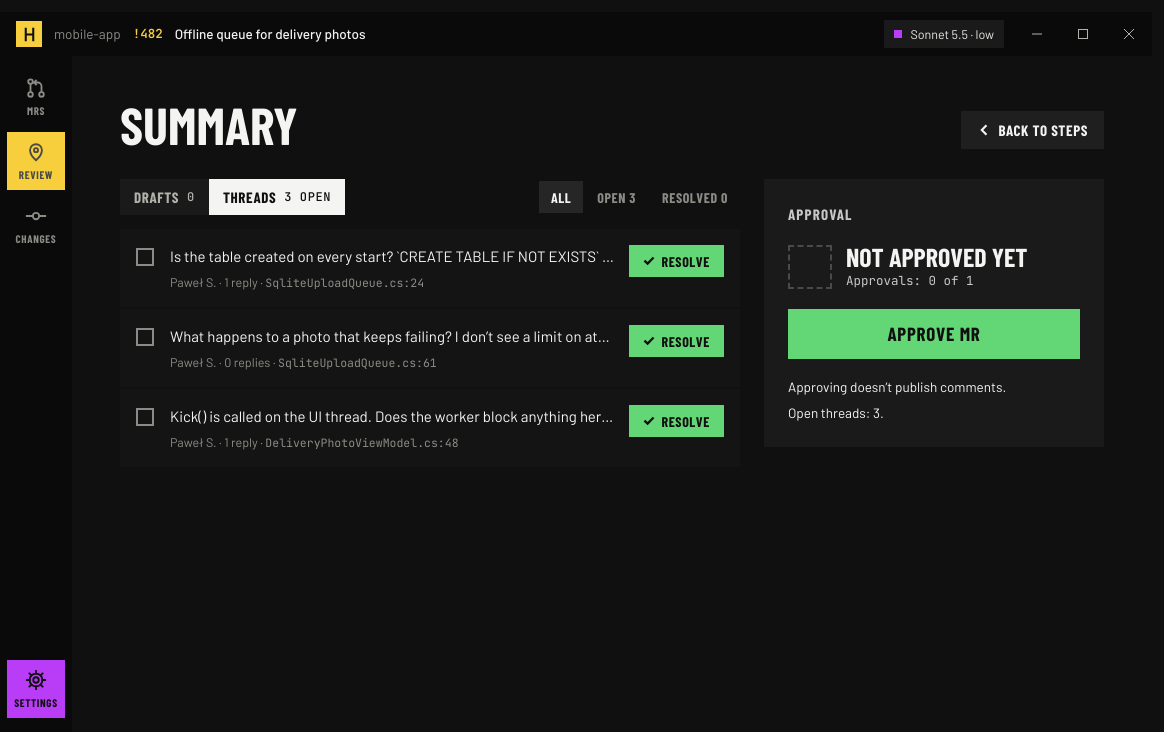
Scenario: S-05 Approve MR and Revoke approval (F-14.2) › F-14.2 GitLab answers the approval with a conflict (the MR changed meanwhile): the banner appears and Approve MR is disabled
Expected: the element named "Comments" is shown, top-left (120, 179), bottom-right (345, 215)
Click the button "Approve MR" at {"x": 934, "y": 334}, box top-left (788, 309), bottom-right (1080, 359)
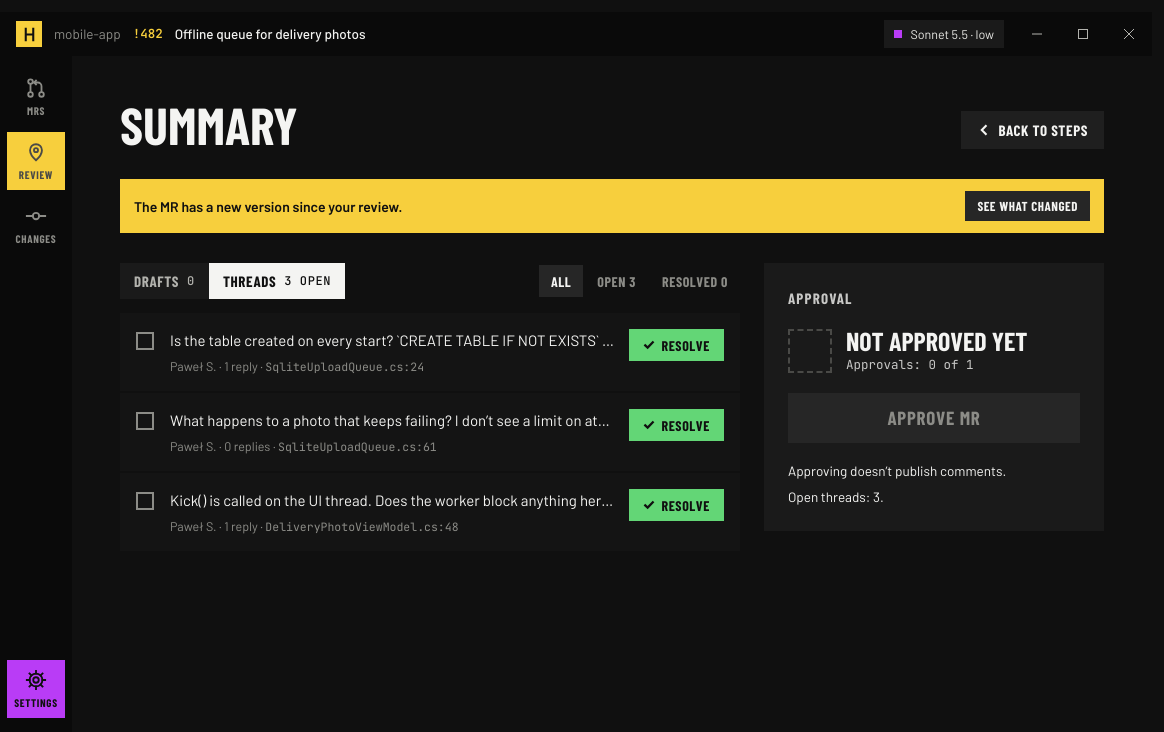
Now the text "The MR has a new version since your review." is shown, box top-left (134, 198), bottom-right (402, 215)
Now the button "See what changed" is shown, box top-left (965, 191), bottom-right (1090, 221)
Now the button "Approve MR" is disabled, box top-left (788, 393), bottom-right (1080, 443)
